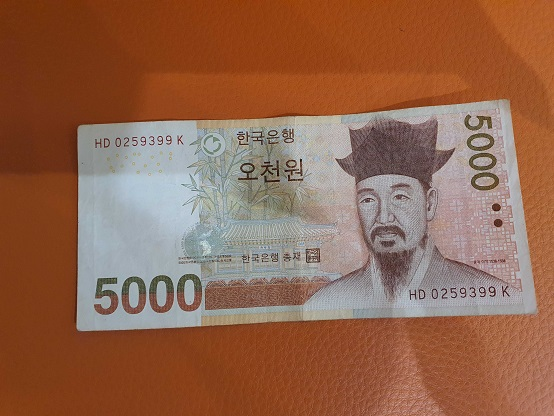5000won: (78, 103, 540, 330)
